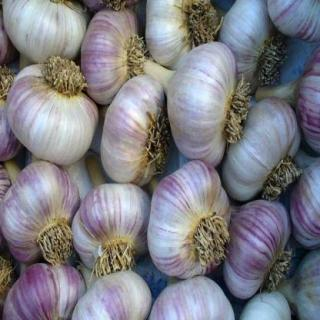Bawang Putih: (148, 160, 232, 281), (7, 63, 100, 166), (167, 43, 236, 166), (224, 97, 302, 204), (3, 163, 84, 264), (100, 73, 168, 186), (71, 184, 154, 273), (227, 199, 291, 300)
